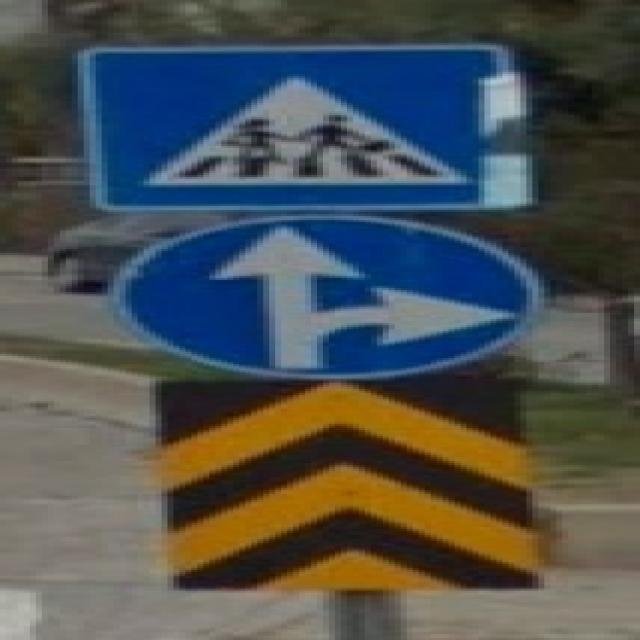Straight or Right: (112, 215, 530, 373)
